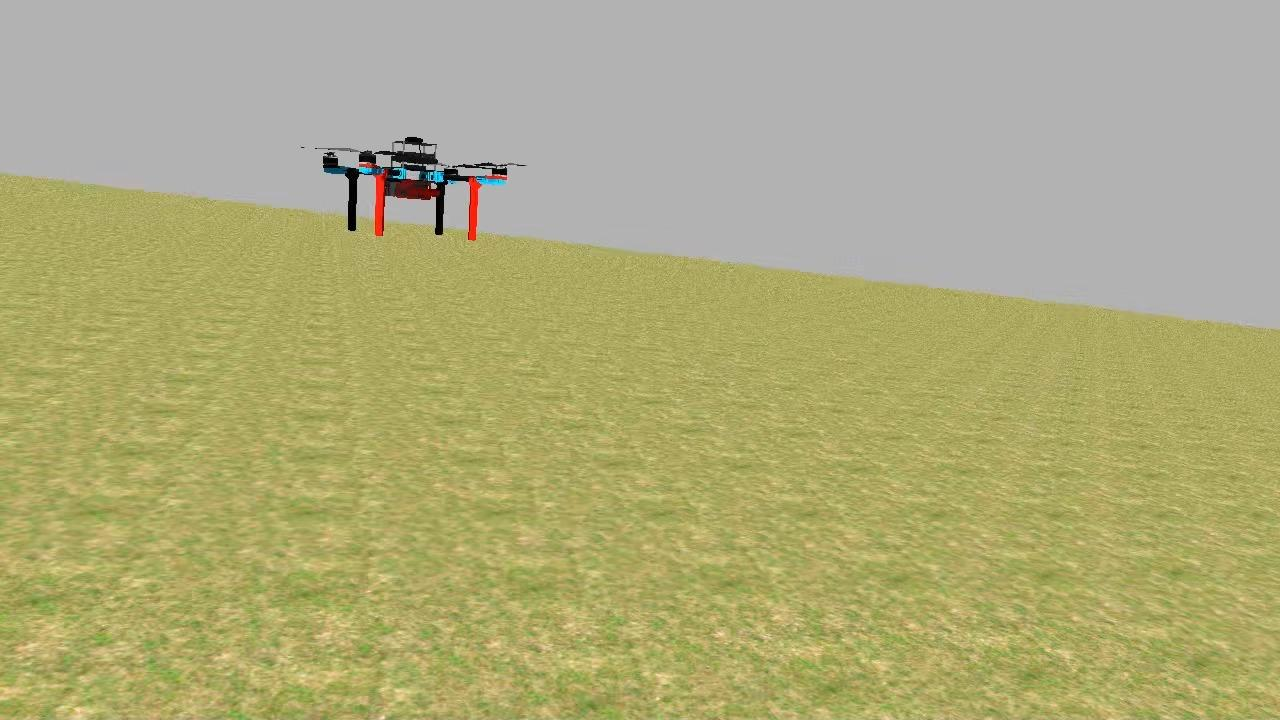UAV: (314, 130, 518, 246)
